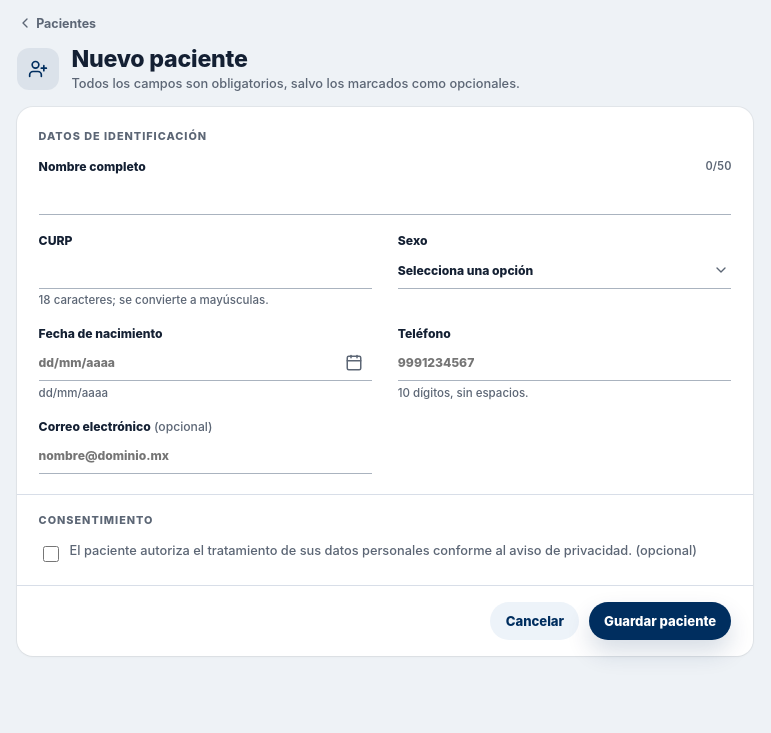
registro de paciente (EDT 4.3.1) › muestra junto a cada campo los duplicados que detecta el servidor
Type "Valeria Ku Escalante" into the field labelled "Nombre completo" at (385, 197), box [39, 179, 731, 215]
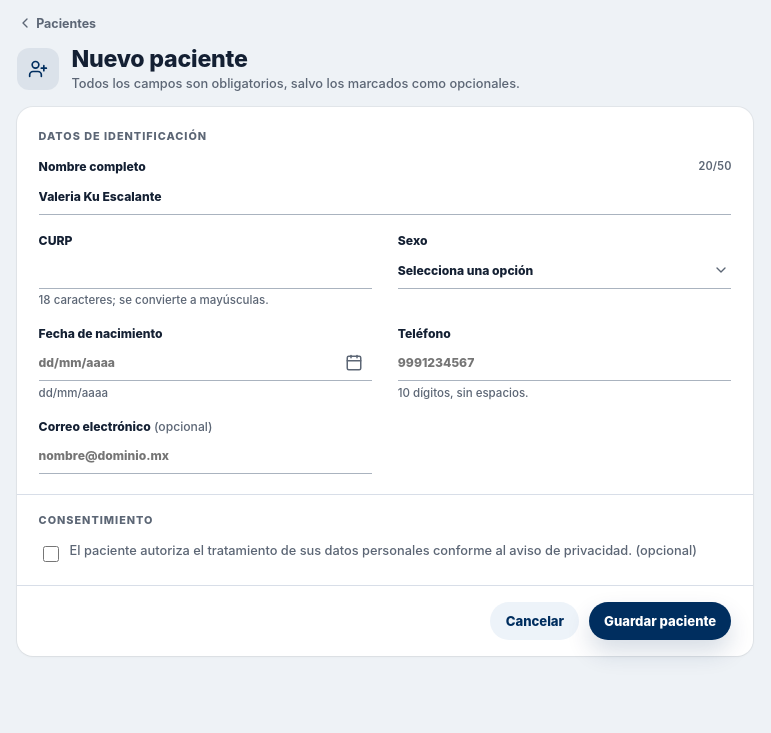
Type "kuev090825mynxsla3" into the field labelled "CURP" at (205, 271), box [39, 253, 372, 289]
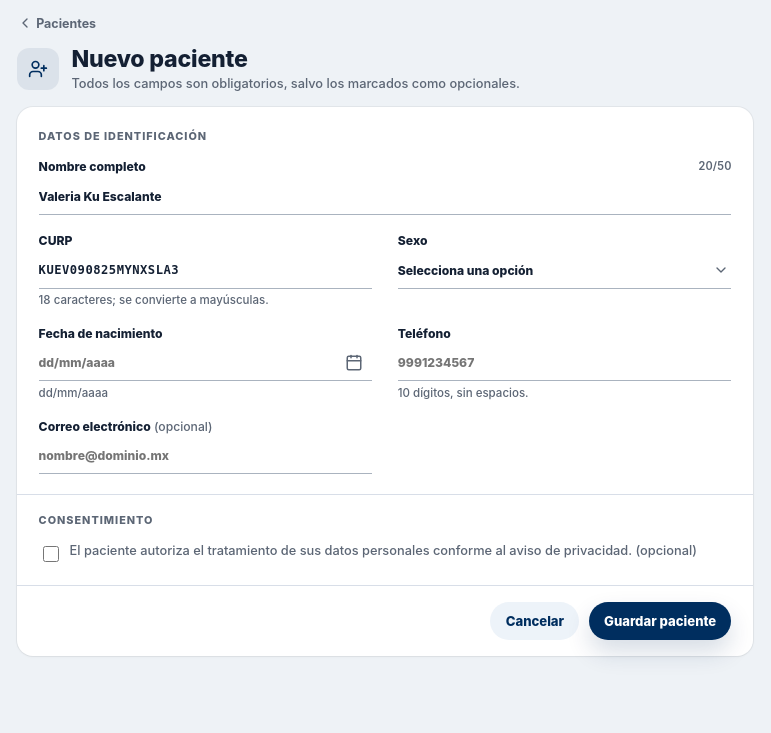
Select "Femenino" in the dropdown labelled "Sexo" at (565, 271), box [398, 253, 731, 289]
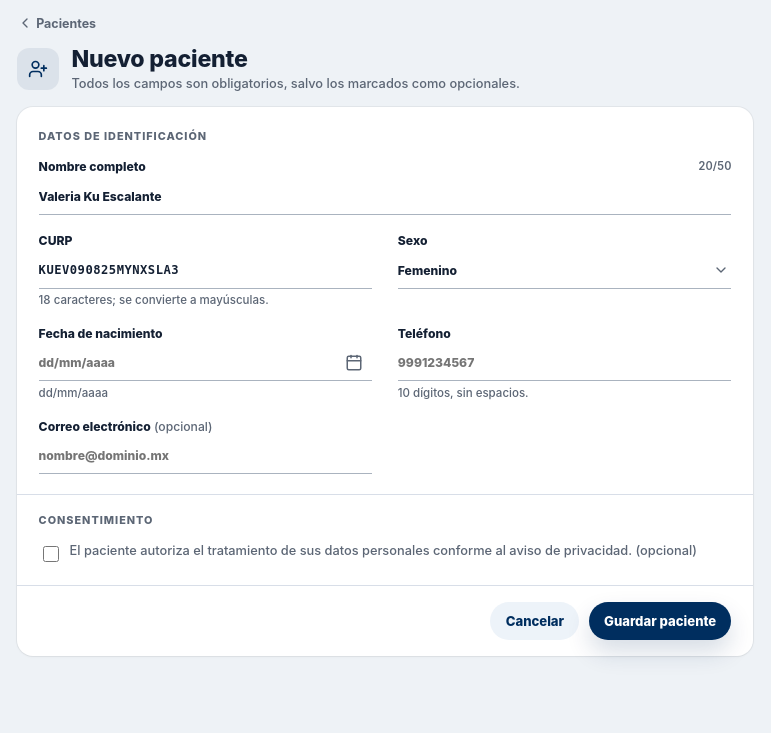
Type "25082009" into the field labelled "Fecha de nacimiento" at (205, 363), box [39, 345, 372, 381]
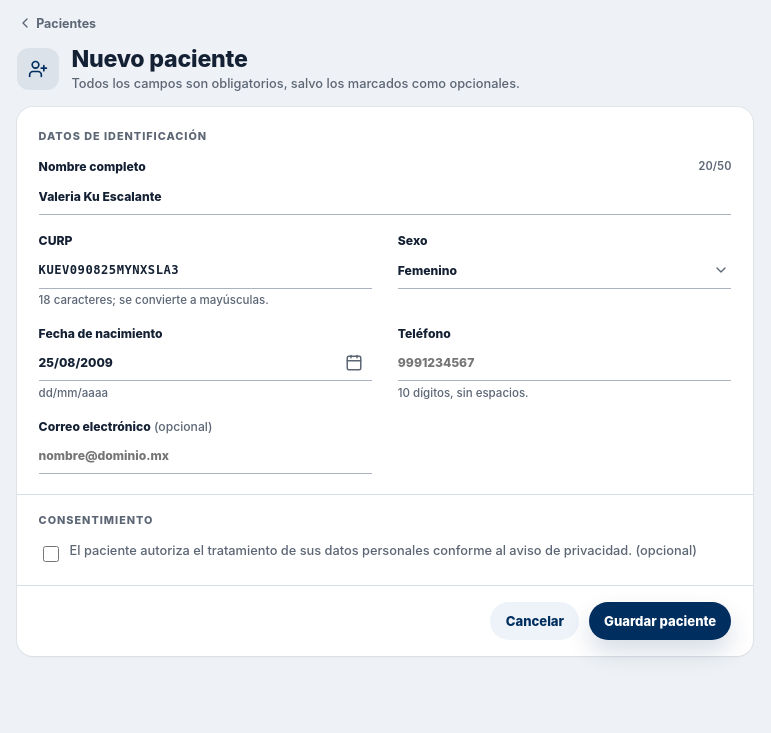
Type "999 640 2218" into the field labelled "Teléfono" at (565, 363), box [398, 345, 731, 381]
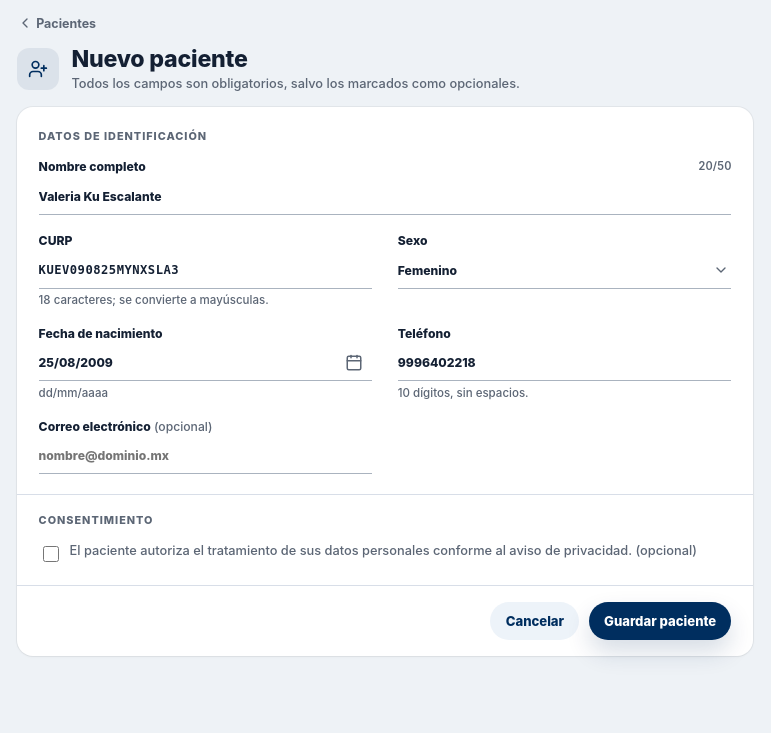
Click the button "Guardar paciente" at (660, 621), box [589, 602, 731, 640]
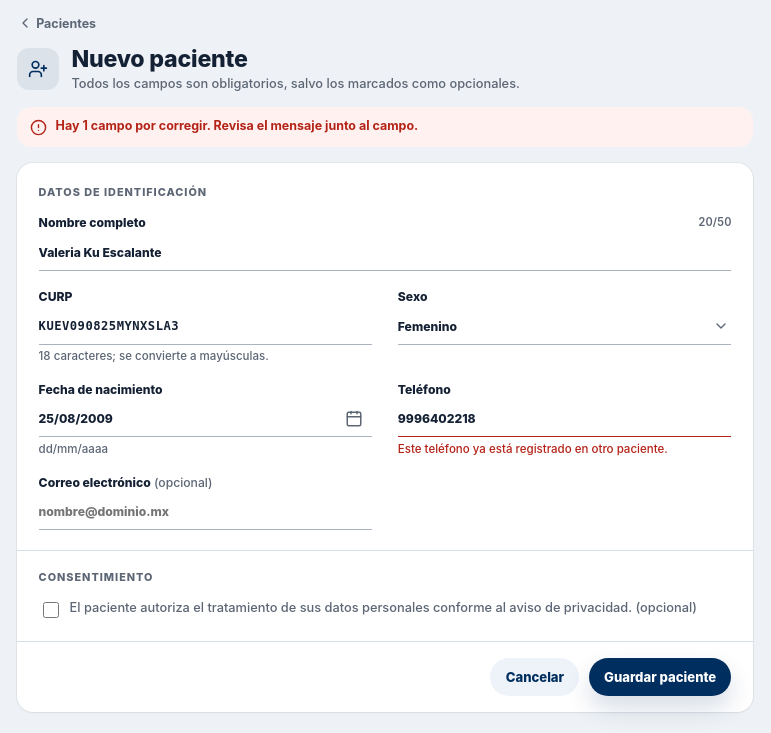
Check: the text "Este teléfono ya está registrado en otro paciente." is shown, box [398, 442, 668, 456]
Check: the text "Hay 1 campo por corregir. Revisa el mensaje junto al campo." is shown, box [56, 118, 418, 133]
